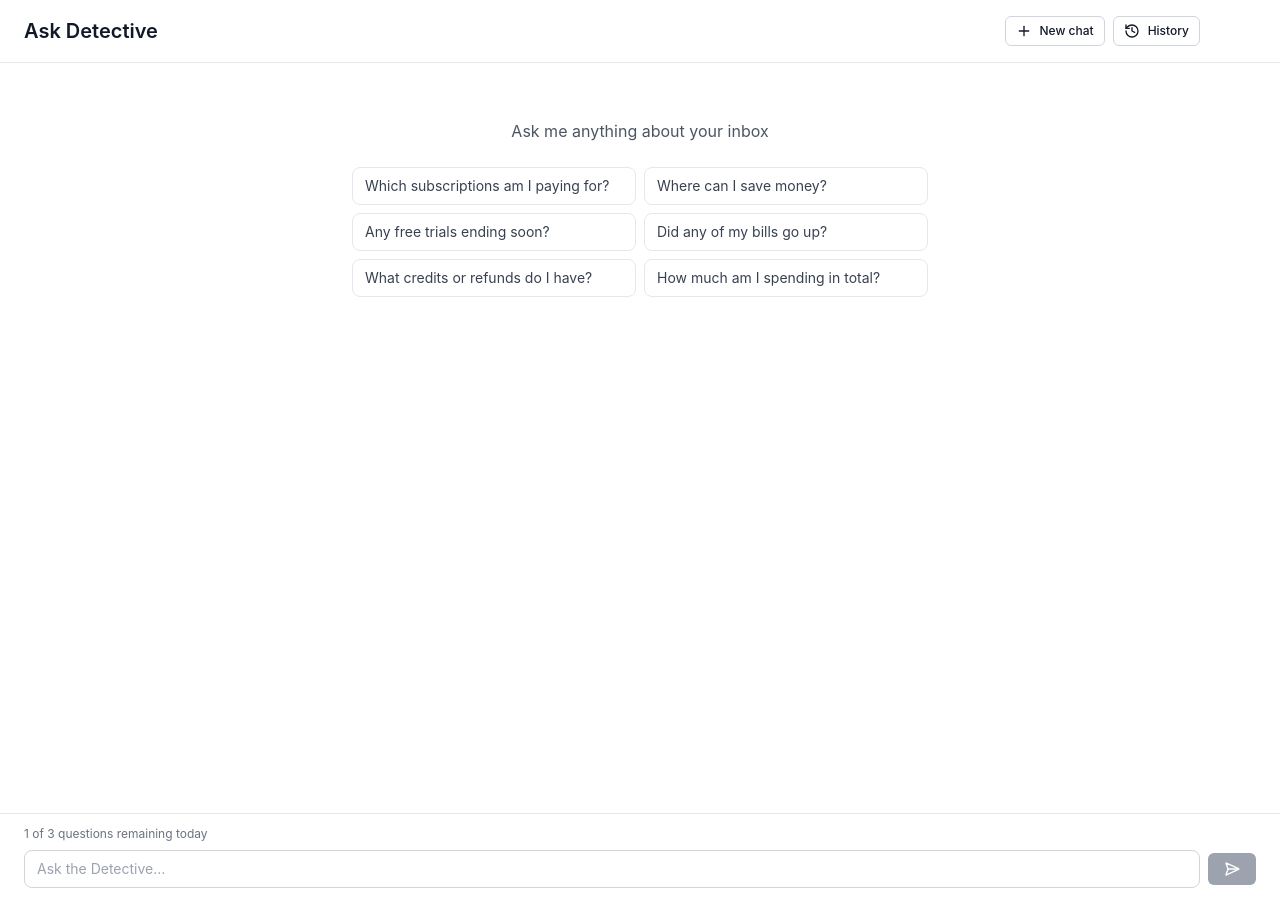
Test: ChatPage — entitlements › treats a backend 402 pro_required as limit reached
Type "One more question?" into the field with test id "chat-input".
click(612, 869); type("One more question?")  # box left=24, top=850, right=1200, bottom=888
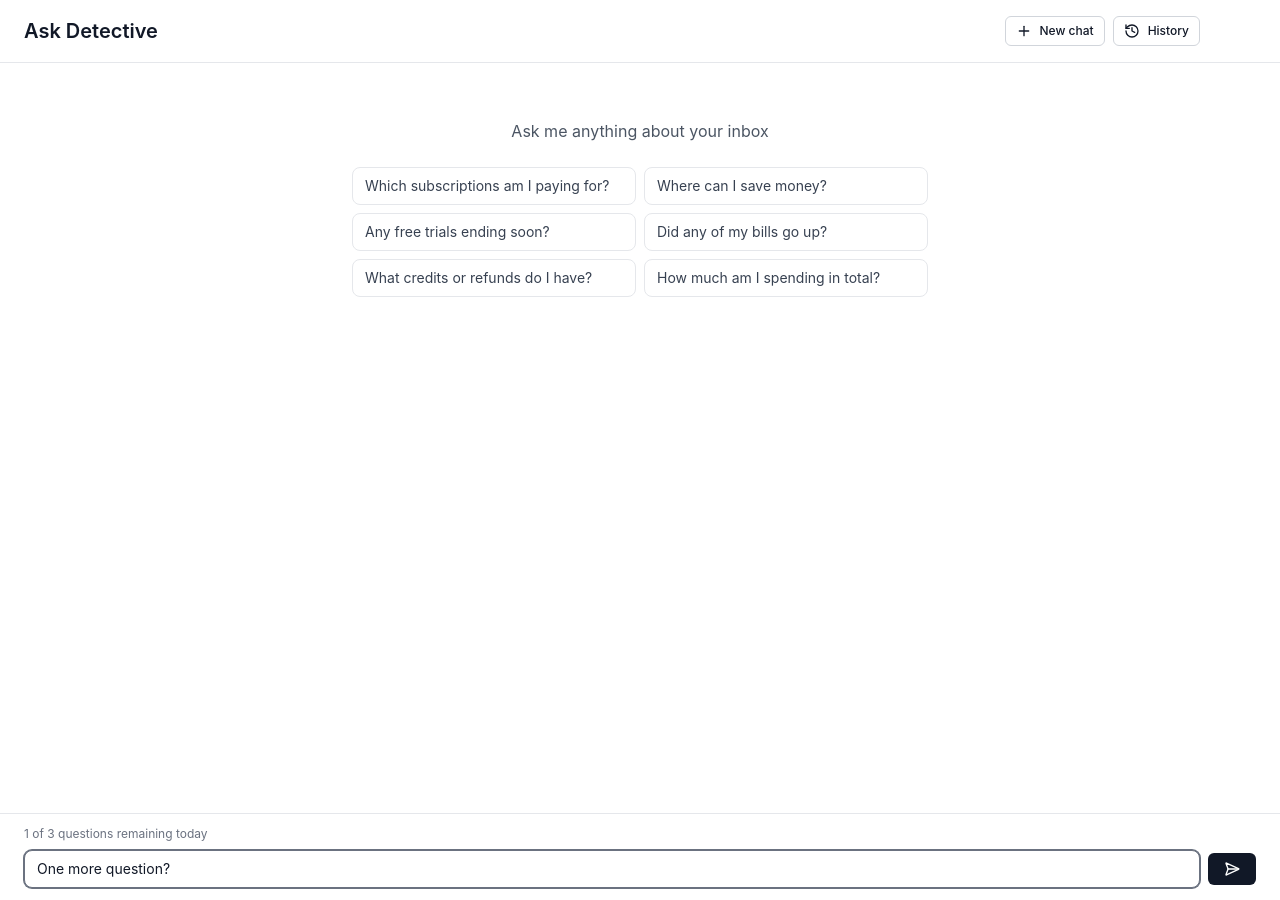
Click the button with test id "chat-send".
click(1232, 869)  # box left=1208, top=853, right=1256, bottom=885
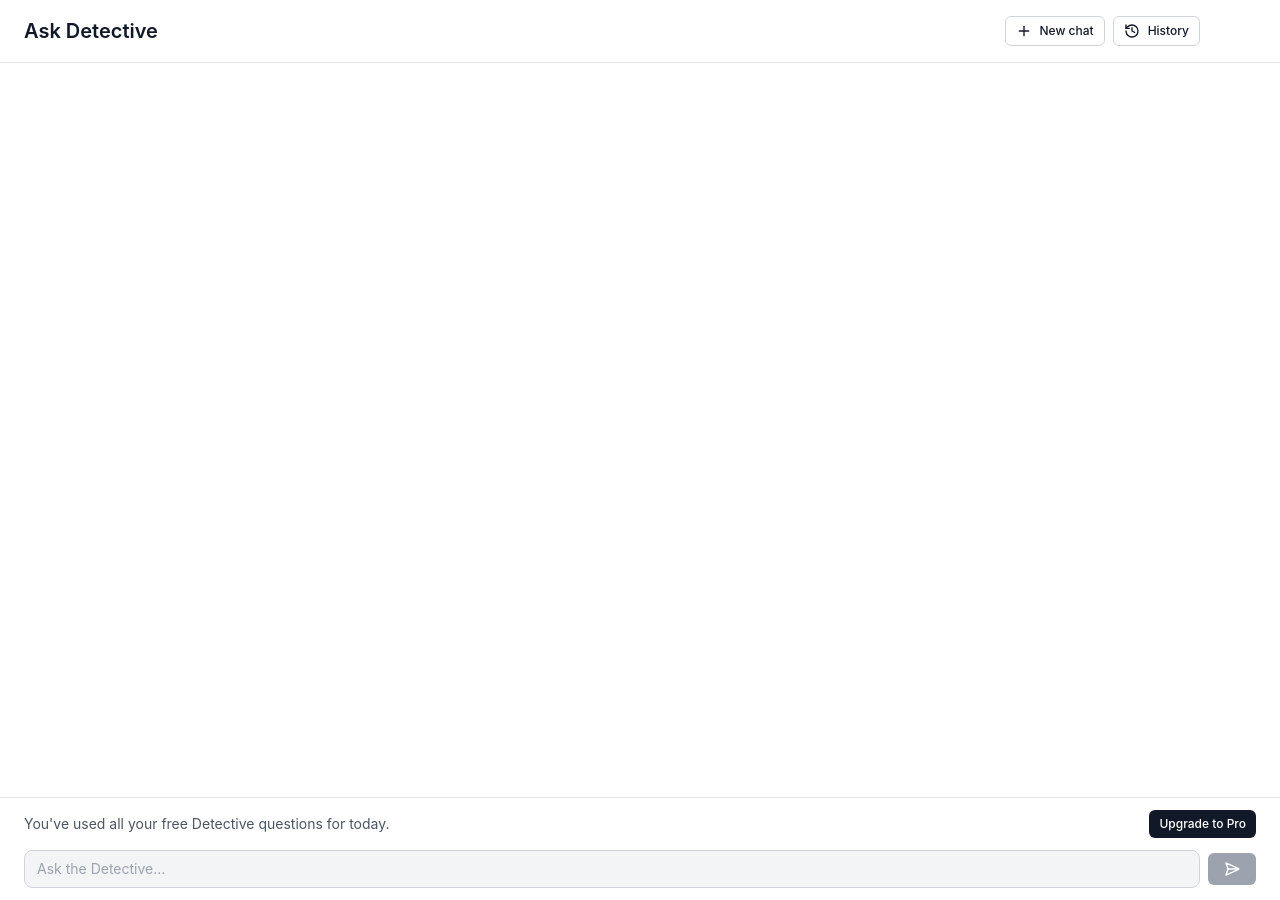
Now the element with test id "chat-limit-reached" is shown, box left=24, top=810, right=1256, bottom=838
Now the field with test id "chat-input" is disabled, box left=24, top=850, right=1200, bottom=888
